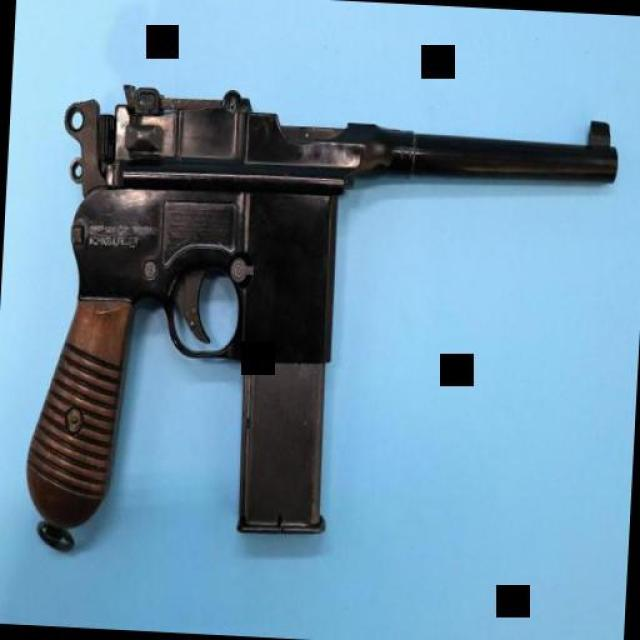gun: (21, 75, 620, 580)
